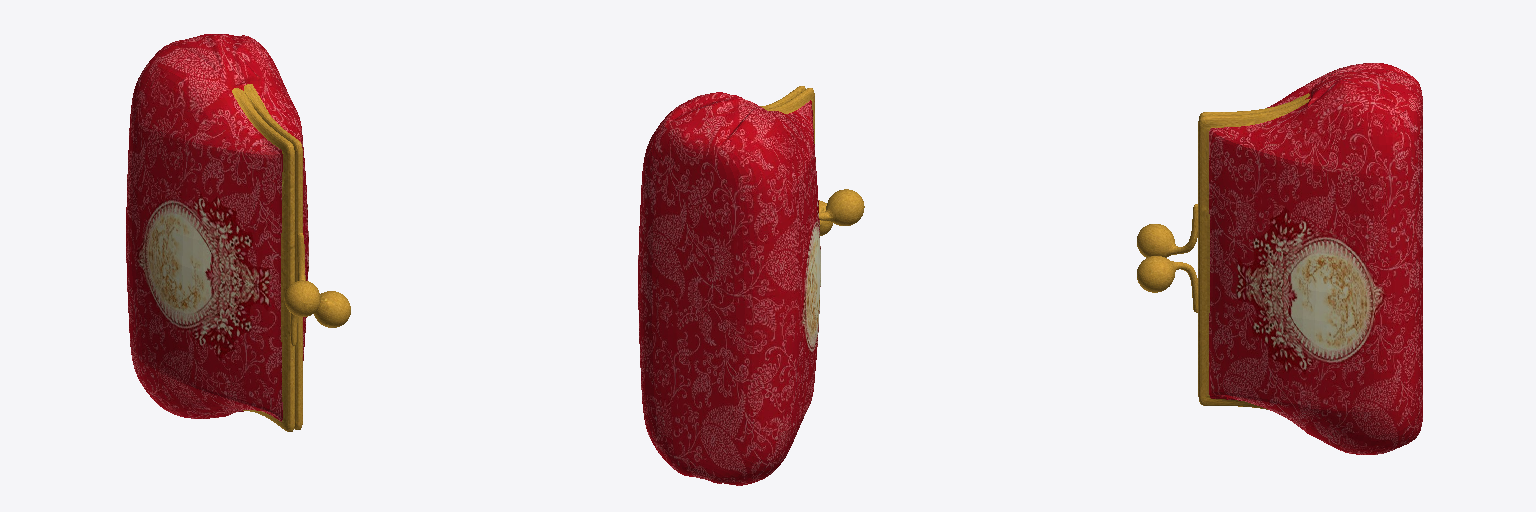
The picture shows the model from 3 angles: view 1: azimuth 30°, elevation 25°; view 2: azimuth 150°, elevation 25°; view 3: azimuth 270°, elevation 25°; orthographic projection.
Visible parts, largest first — view 1: 10133_ClutchPurse_v02; view 2: 10133_ClutchPurse_v02; view 3: 10133_ClutchPurse_v02.
Part boxes in pixels (bbox=[...]): 10133_ClutchPurse_v02: bbox=[126, 34, 350, 431]; 10133_ClutchPurse_v02: bbox=[638, 86, 864, 485]; 10133_ClutchPurse_v02: bbox=[1137, 63, 1422, 454].
Bounding box in the file's own units: 5.86 × 13.38 × 9.44.
Materials: 2 (1 with a texture image).